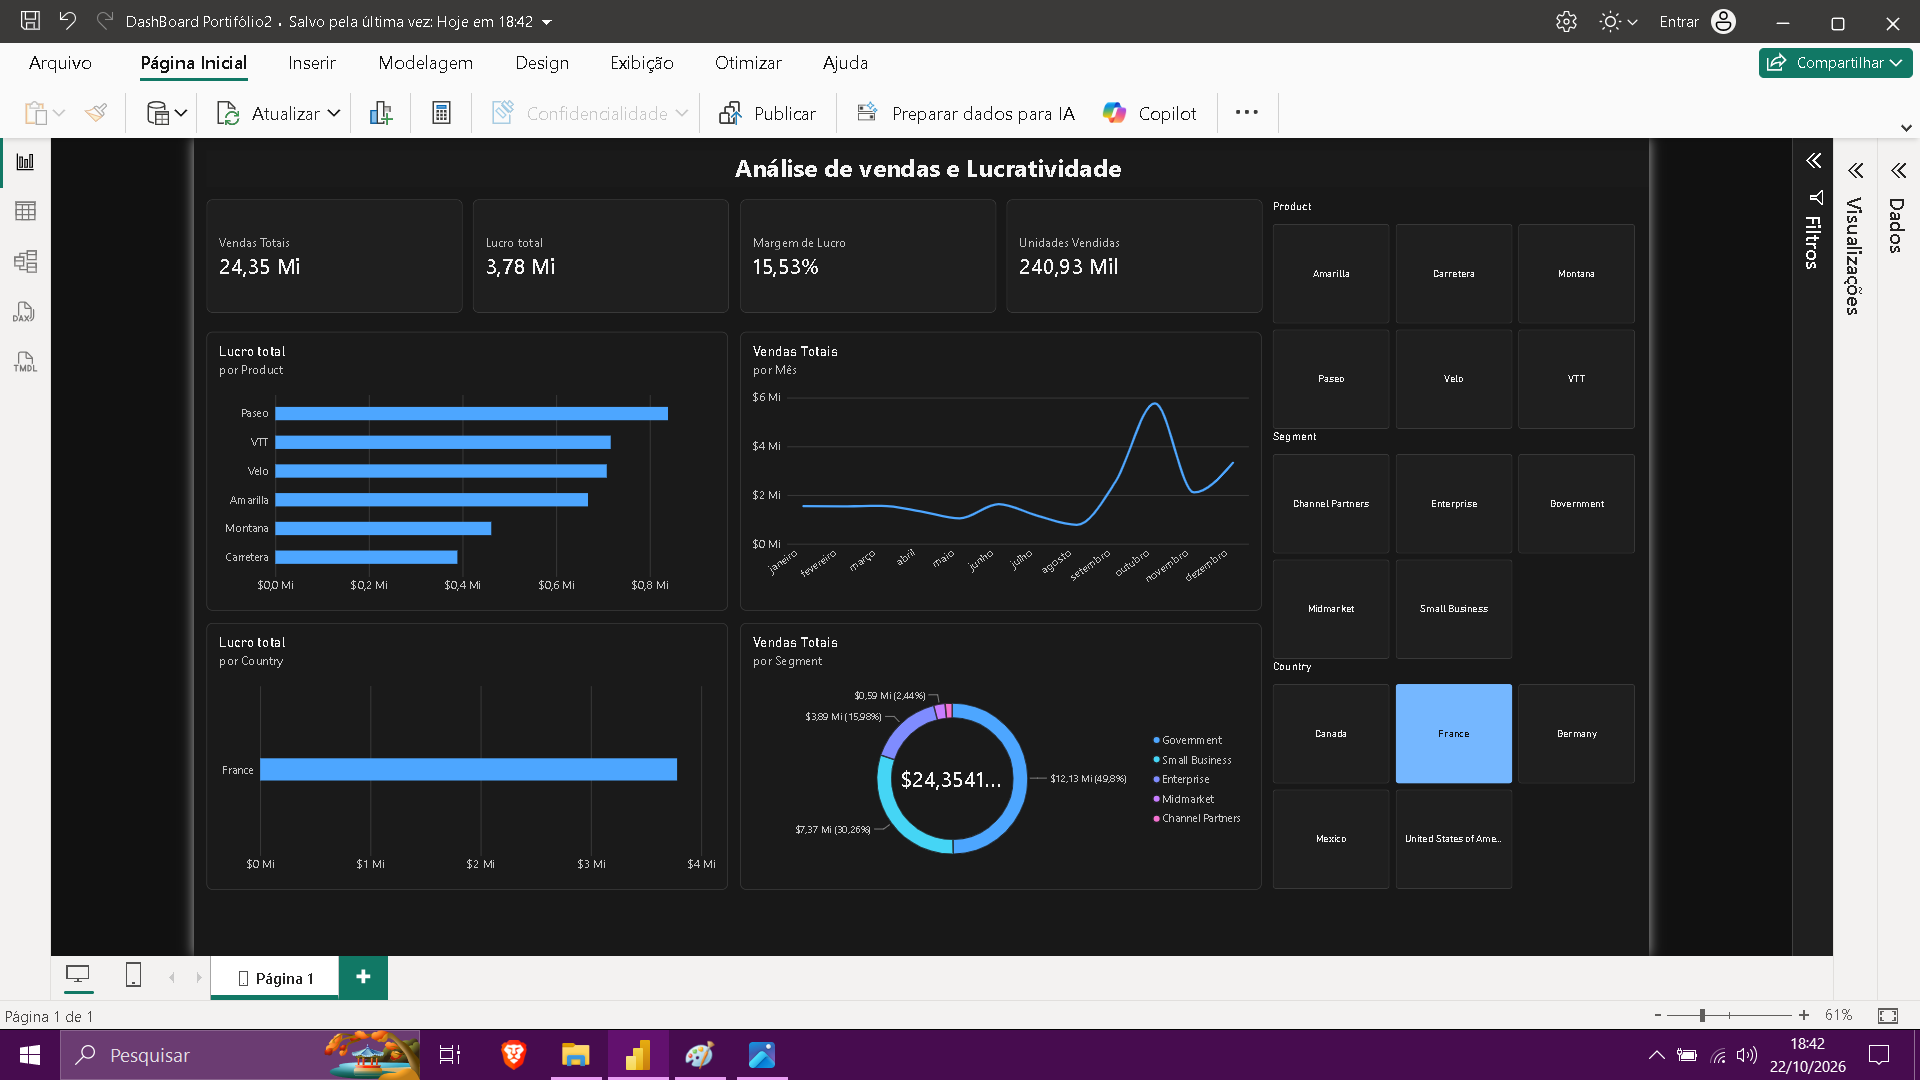

This screenshot's page, from the dashboard's own definition file:
{"tool":"powerbi","page":{"name":"Página 1","canvas":[1920,1080],"ordinal":0},"visuals":[{"type":"textbox","box":[16,16,1904,48],"z":0},{"type":"cardVisual","fields":{"Data":["financials.Vendas Totais"]},"box":[16,80,338.5,150.3],"z":1000},{"type":"cardVisual","fields":{"Data":["financials.Lucro total"]},"box":[368,80,338.5,150.3],"z":2000},{"type":"cardVisual","fields":{"Data":["financials.Margem de Lucro"]},"box":[720,80,338.5,150.3],"z":3000},{"type":"cardVisual","fields":{"Data":["financials.Unidades Vendidas"]},"box":[1072,80,338.5,150.3],"z":4000},{"type":"lineChart","fields":{"Category":["financials.Date.Variação.Hierarquia de datas.Ano","financials.Date.Variação.Hierarquia de datas.Trimestre","financials.Date.Variação.Hierarquia de datas.Mês","financials.Date.Variação.Hierarquia de datas.Dia"],"Y":["financials.Vendas Totais"]},"box":[720,256,688,368],"z":5000},{"type":"clusteredBarChart","fields":{"Category":["financials.Product"],"Y":["financials.Lucro total"]},"box":[16,256,688,368],"z":6000},{"type":"donutChart","fields":{"Category":["financials.Segment"],"Y":["financials.Vendas Totais"]},"box":[720,640,688,352],"z":7000},{"type":"clusteredBarChart","fields":{"Category":["financials.Country"],"Y":["financials.Lucro total"]},"box":[16,640,688,352],"z":8000},{"type":"advancedSlicerVisual","fields":{"Values":["financials.Country"]},"box":[1424,688,480,304],"z":9000},{"type":"advancedSlicerVisual","fields":{"Values":["financials.Segment"]},"box":[1424,384,480,304],"z":10000},{"type":"advancedSlicerVisual","fields":{"Values":["financials.Product"]},"box":[1424,80,480,304],"z":11000}]}

Visuals, with their boxes on the page's 1920x1080 design canvas (x1, y1, x2, y2). These are canvas units, not pixel positions in the 1920x1080 screenshot, which may show the page scaled, cropped or inside an application window:
textbox: detection(16, 16, 1920, 64)
cardVisual - financials.Vendas Totais: detection(16, 80, 354, 230)
cardVisual - financials.Lucro total: detection(368, 80, 706, 230)
cardVisual - financials.Margem de Lucro: detection(720, 80, 1058, 230)
cardVisual - financials.Unidades Vendidas: detection(1072, 80, 1410, 230)
lineChart - financials.Date.Variação.Hierarquia de datas.Ano x financials.Date.Variação.Hierarquia de datas.Trimestre: detection(720, 256, 1408, 624)
clusteredBarChart - financials.Product x financials.Lucro total: detection(16, 256, 704, 624)
donutChart - financials.Segment x financials.Vendas Totais: detection(720, 640, 1408, 992)
clusteredBarChart - financials.Country x financials.Lucro total: detection(16, 640, 704, 992)
advancedSlicerVisual - financials.Country: detection(1424, 688, 1904, 992)
advancedSlicerVisual - financials.Segment: detection(1424, 384, 1904, 688)
advancedSlicerVisual - financials.Product: detection(1424, 80, 1904, 384)
